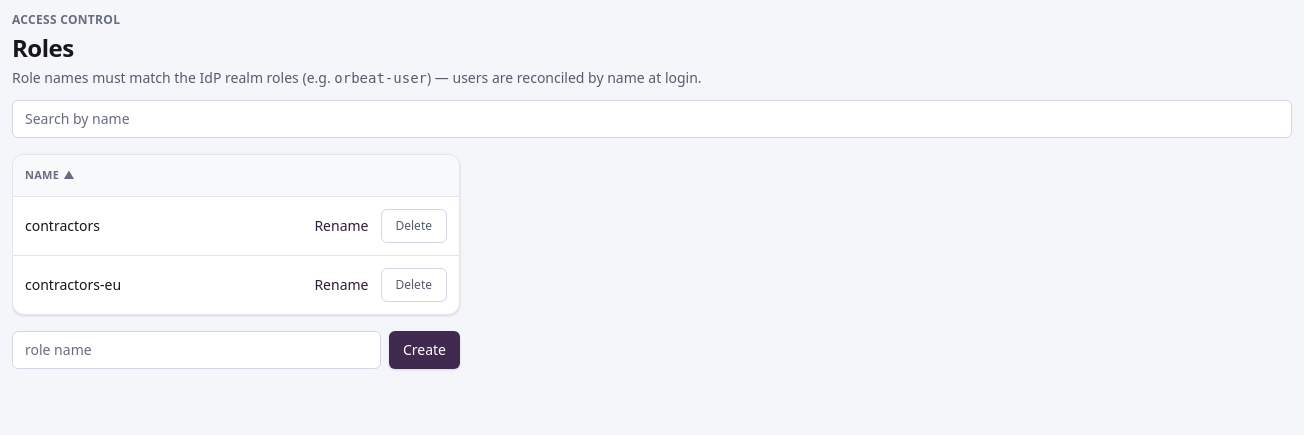
Test: delete: surfaces the revoked counts the response returned
Expected: the text "contractors" is shown, [25,216,100,236]
Click the button with aria-label "Delete contractors": point(414, 226) [380,208,447,242]
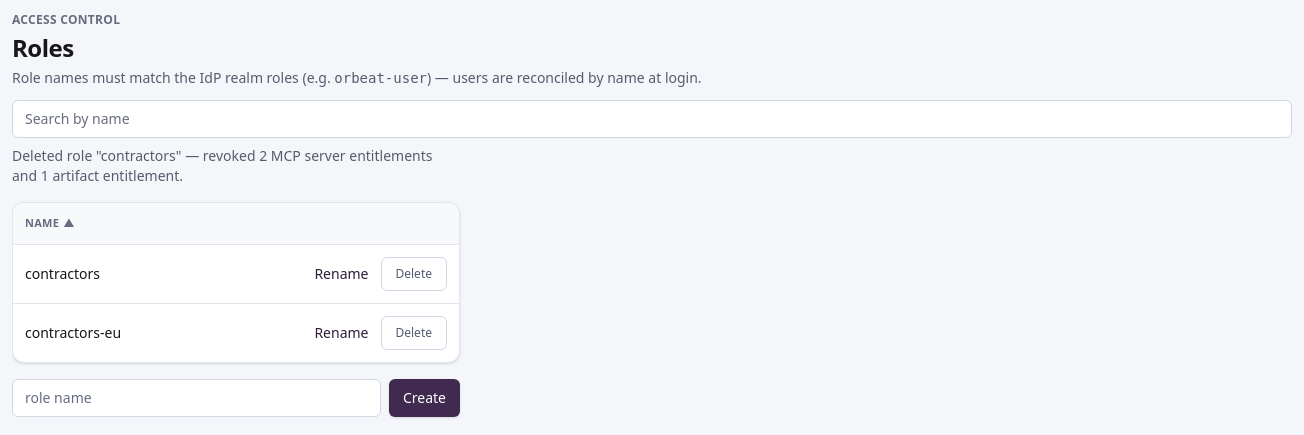
Expected: the text "revoked 2 MCP server entitlements and 1 artifact entitlement" is shown, [12,146,460,186]
